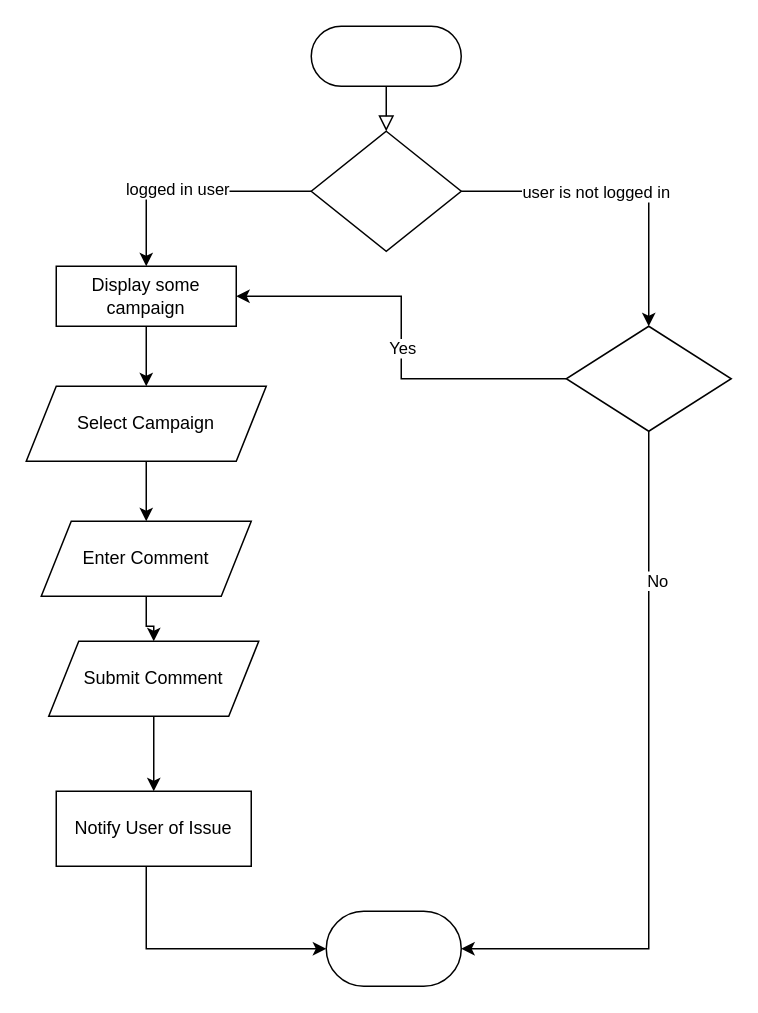
This 758x1013 diagram has some shape labels left out. Here are the shapes that lost their labels. From the top down, the centre of each, then its label:
At (x=385, y=55): "start".
At (x=648, y=378): "Register".
At (x=393, y=948): "end".
